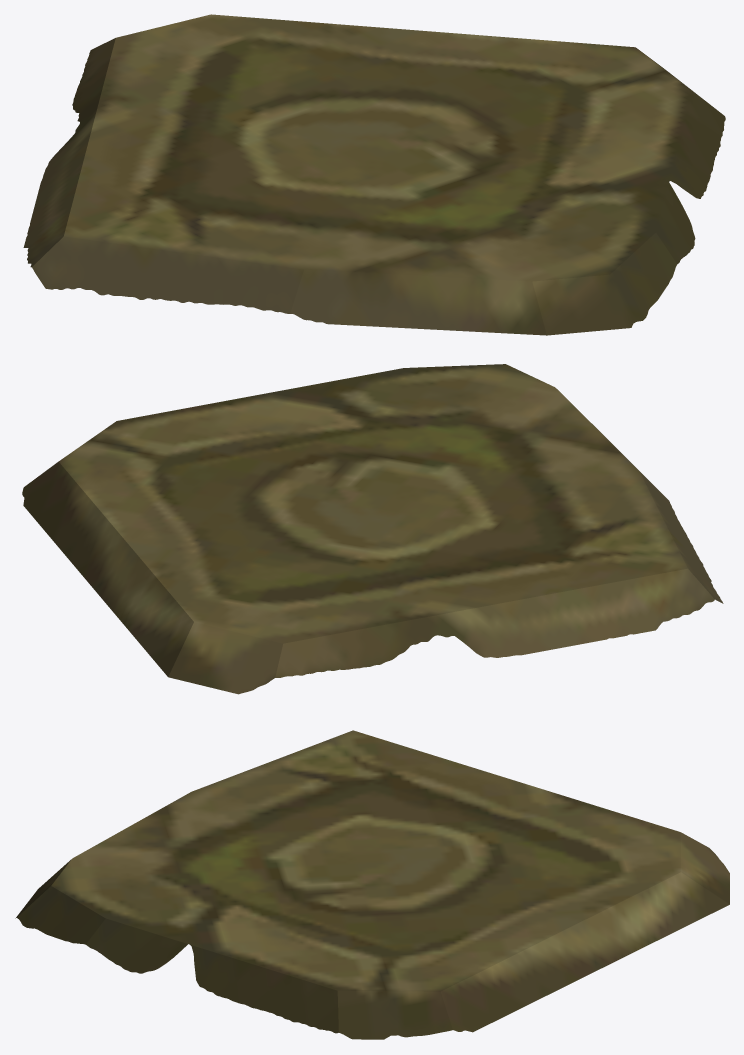
The model's file is paver_02.fbx.
3 renders of one model, top to bottom at view 1: azimuth 30°, elevation 25°; view 2: azimuth 150°, elevation 25°; view 3: azimuth 270°, elevation 25°, orthographic. The views are drawn at different scales.
Parts seen in each view (by area): view 1: obj0.179; view 2: obj0.179; view 3: obj0.179.
Boxes of the visible parts, <box> form: obj0.179: <box>23,14,725,335</box>; obj0.179: <box>22,364,723,694</box>; obj0.179: <box>15,730,729,1039</box>.
Size of the model in its own units: 1.89 by 0.0972 by 1.92.
